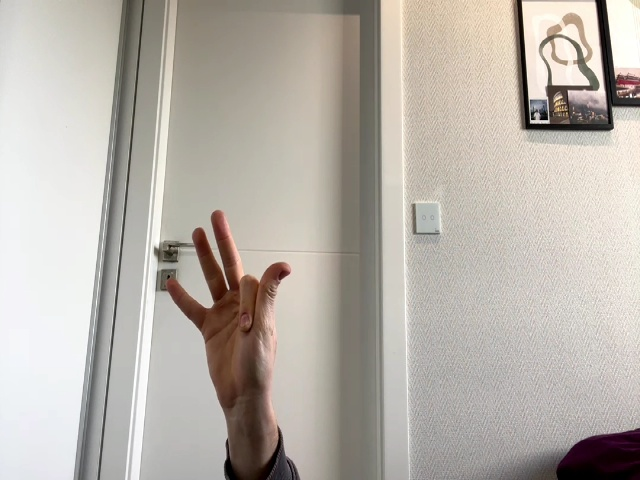F: (165, 210, 291, 395)
